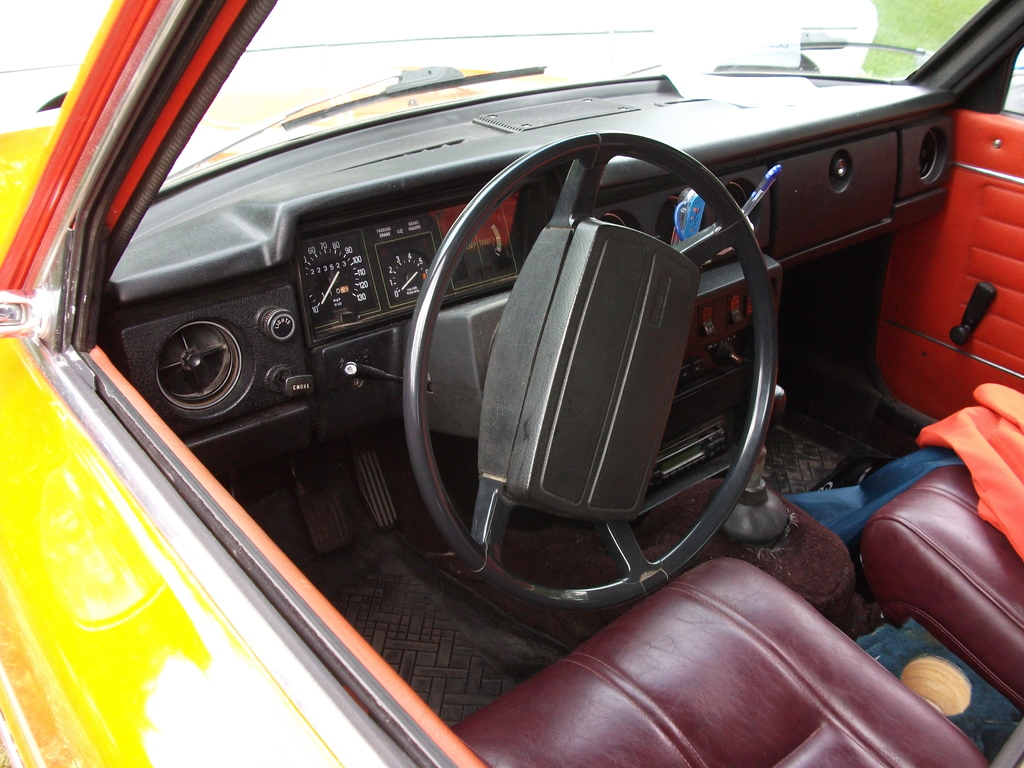Car: (0, 0, 1023, 767), (0, 0, 876, 71)
